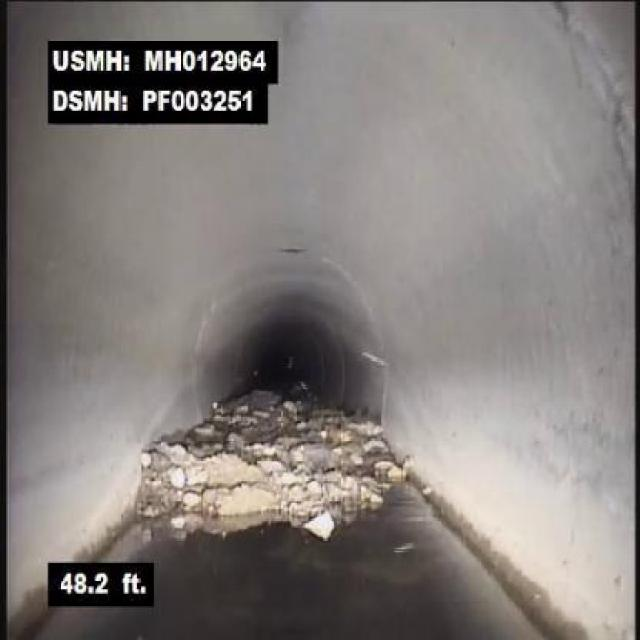Obstacle: (278, 380, 412, 538), (132, 388, 272, 535)
